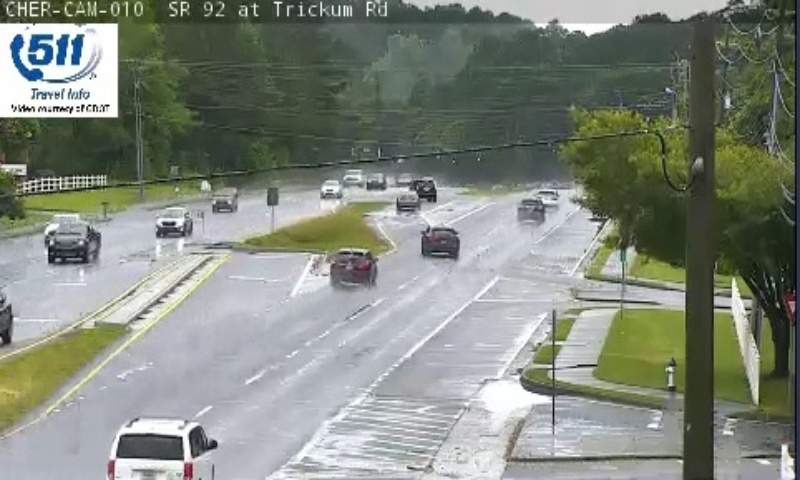car: (106, 418, 215, 480), (330, 249, 376, 283), (424, 229, 459, 256), (517, 196, 545, 220)
